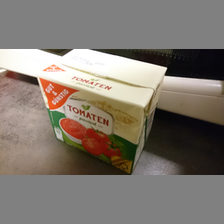tomato_sauce: (36, 49, 167, 174)
